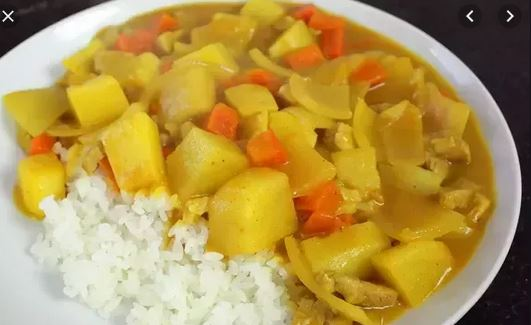curry: (177, 29, 465, 275), (169, 77, 407, 222), (268, 132, 450, 306), (129, 22, 353, 125), (67, 65, 229, 181)
